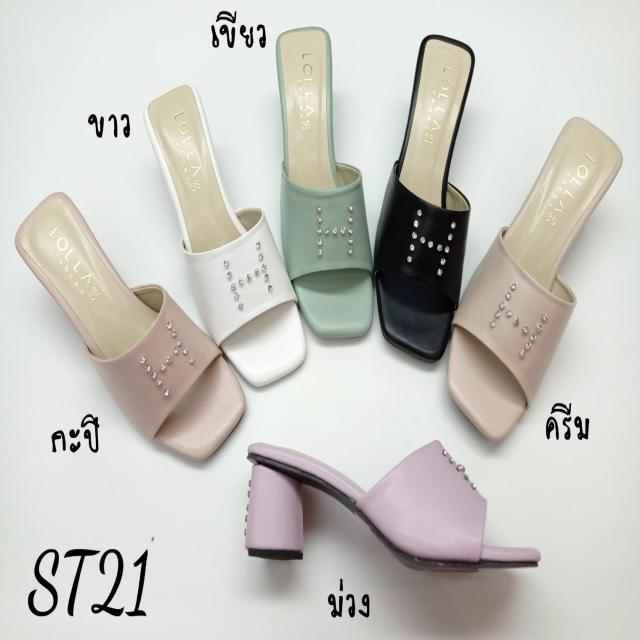black: (377, 34, 474, 359)
cream: (450, 113, 621, 444)
green: (280, 24, 376, 340)
kapi: (22, 199, 246, 466)
purple: (241, 446, 542, 577)
